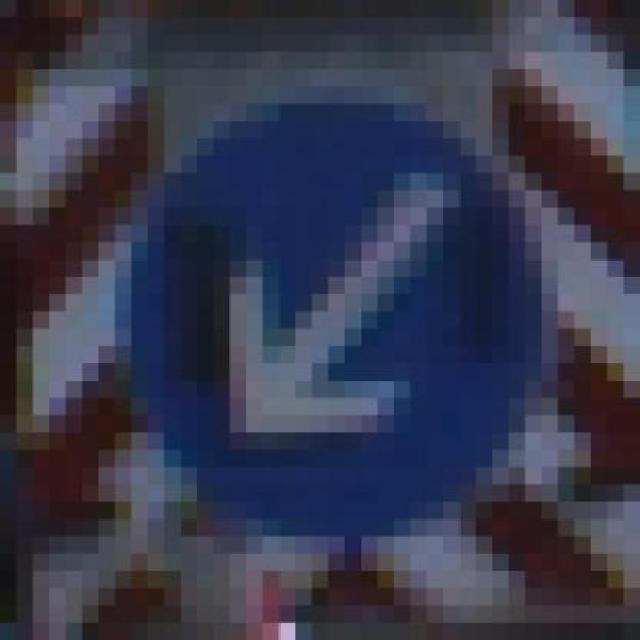Keep-Left: (82, 93, 575, 544)
